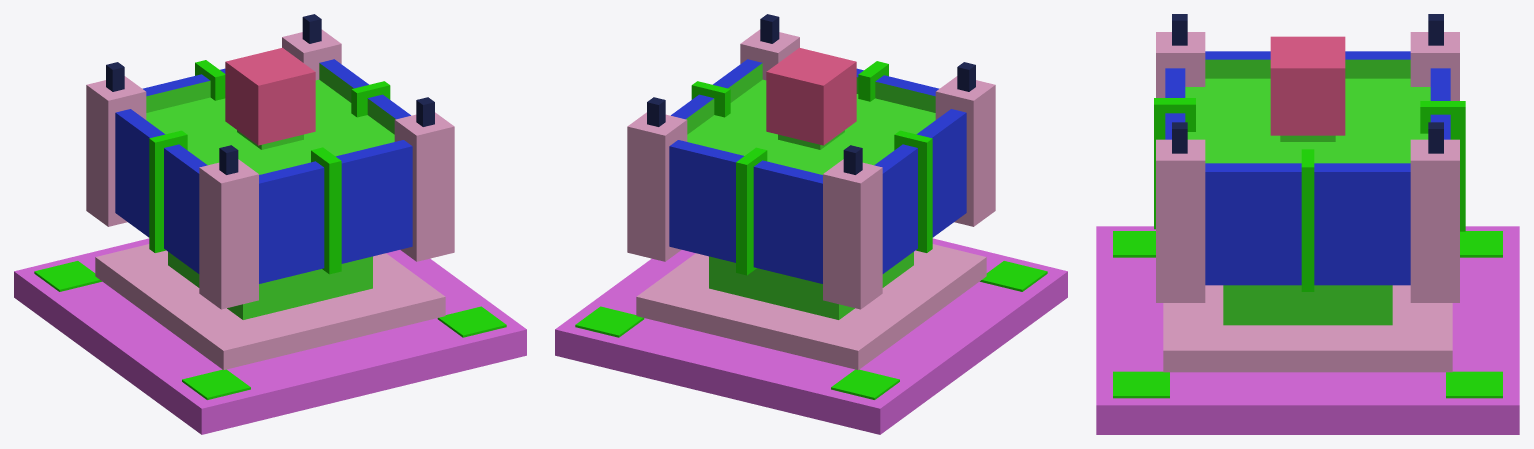
Rendered from rapidFire_Lv3.fbx.
3 renders of one model, left to right at view 1: azimuth 30°, elevation 25°; view 2: azimuth 150°, elevation 25°; view 3: azimuth 270°, elevation 25°, orthographic. The views are drawn at different scales.
Visible parts, largest first — view 1: Cube.004; view 2: Cube.004; view 3: Cube.004.
Part boxes in pixels (x1,y1,x2,y2): Cube.004: [14, 14, 526, 434]; Cube.004: [555, 14, 1067, 434]; Cube.004: [1096, 14, 1519, 434].
Bounding box in the file's own units: 200 × 153 × 200.
